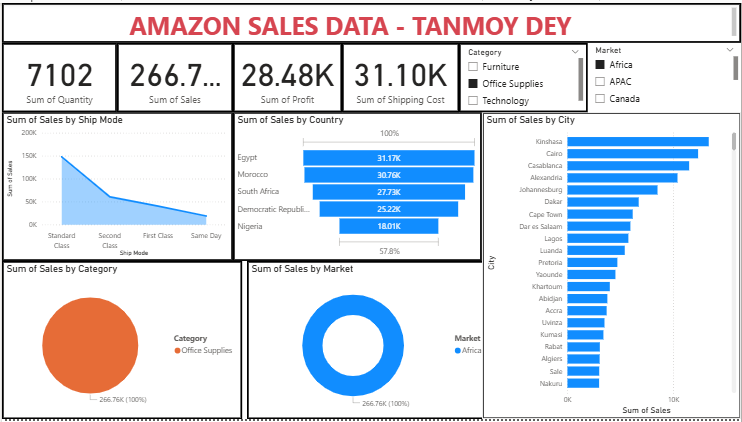

Layout of this report page (visuals, bound fields, positions):
{"tool":"powerbi","page":{"name":"Page 1","canvas":[1280,720],"ordinal":0},"visuals":[{"type":"pieChart","fields":{"Category":["Orders.Category"],"Y":["Sum(Orders.Sales)"]},"box":[0,446.9,415.7,273.7],"z":0},{"type":"donutChart","fields":{"Category":["Orders.Market"],"Y":["Sum(Orders.Sales)"]},"box":[424.4,446.9,431.3,273.7],"z":1000},{"type":"stackedAreaChart","fields":{"Category":["Orders.Ship Mode"],"Y":["Sum(Orders.Sales)"]},"box":[0,188.8,400.1,258.1],"z":2000},{"type":"clusteredBarChart","fields":{"Category":["Orders.City"],"Y":["Sum(Orders.Sales)"]},"box":[831.4,188.8,448.6,531.7],"z":3000},{"type":"funnel","fields":{"Category":["Orders.Country"],"Y":["Sum(Orders.Sales)"]},"box":[400.1,188.8,431.3,258.1],"z":4000},{"type":"textbox","box":[0,0,1280,69.3],"z":5000},{"type":"card","fields":{"Values":["Sum(Orders.Quantity)"]},"box":[0,69.3,199.2,119.5],"z":6000},{"type":"card","fields":{"Values":["Sum(Orders.Sales)"]},"box":[199.2,69.3,200.9,119.5],"z":7000},{"type":"card","fields":{"Values":["Sum(Orders.Profit)"]},"box":[400.1,69.3,188.8,119.5],"z":8000},{"type":"card","fields":{"Values":["Sum(Orders.Shipping Cost)"]},"box":[588.9,69.3,202.7,119.5],"z":9000},{"type":"slicer","fields":{"Values":["Orders.Category"]},"box":[791.6,69.3,223.4,119.5],"z":10000},{"type":"slicer","fields":{"Values":["Orders.Market"]},"box":[1015,69.3,265,119.5],"z":11000}]}

Visuals, with their boxes in screenshot pixels (x1, y1, x2, y2), scaled from the page's 1280x720 canvas onto the 742x422 screenshot:
pieChart - Orders.Category x Sum(Orders.Sales): [0,262,241,421]
donutChart - Orders.Market x Sum(Orders.Sales): [246,262,496,421]
stackedAreaChart - Orders.Ship Mode x Sum(Orders.Sales): [0,111,232,262]
clusteredBarChart - Orders.City x Sum(Orders.Sales): [482,111,741,421]
funnel - Orders.Country x Sum(Orders.Sales): [232,111,482,262]
textbox: [0,0,741,41]
card - Sum(Orders.Quantity): [0,41,115,111]
card - Sum(Orders.Sales): [115,41,232,111]
card - Sum(Orders.Profit): [232,41,341,111]
card - Sum(Orders.Shipping Cost): [341,41,459,111]
slicer - Orders.Category: [459,41,588,111]
slicer - Orders.Market: [588,41,741,111]
